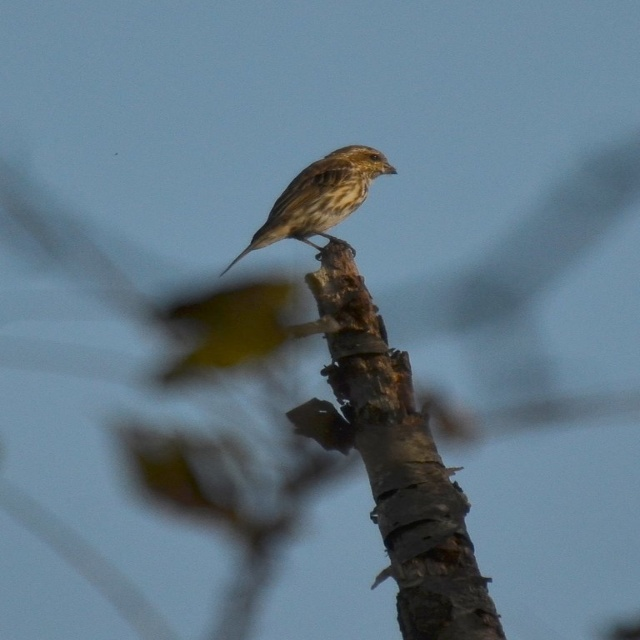Sparrow: (222, 146, 400, 276)
